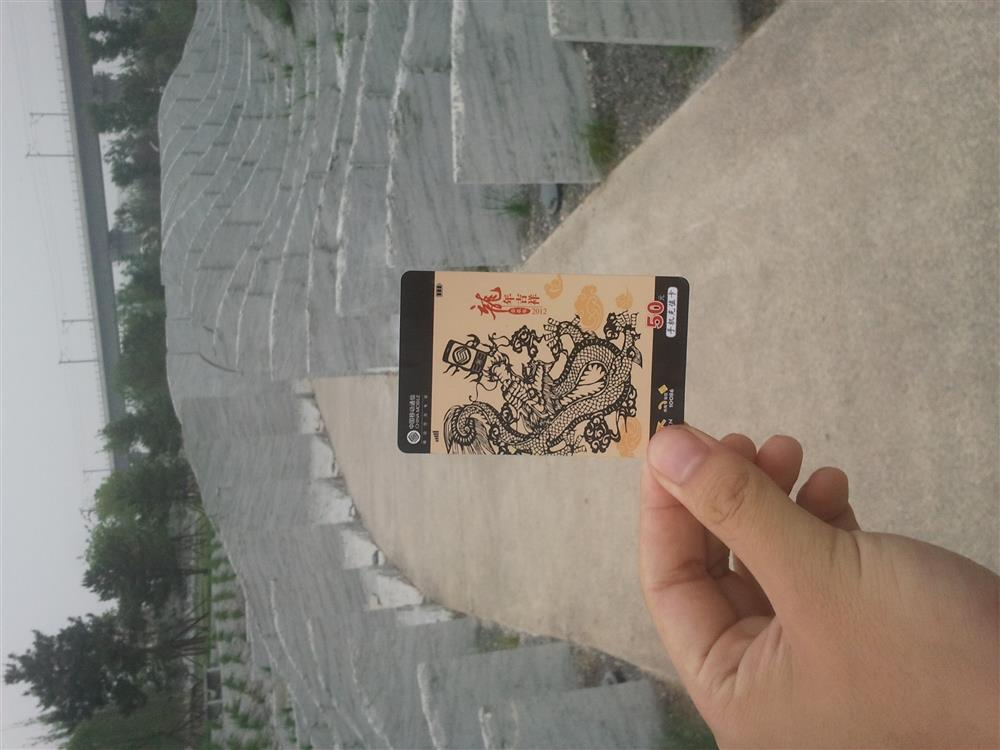china_mobile_card: (391, 267, 690, 461)
